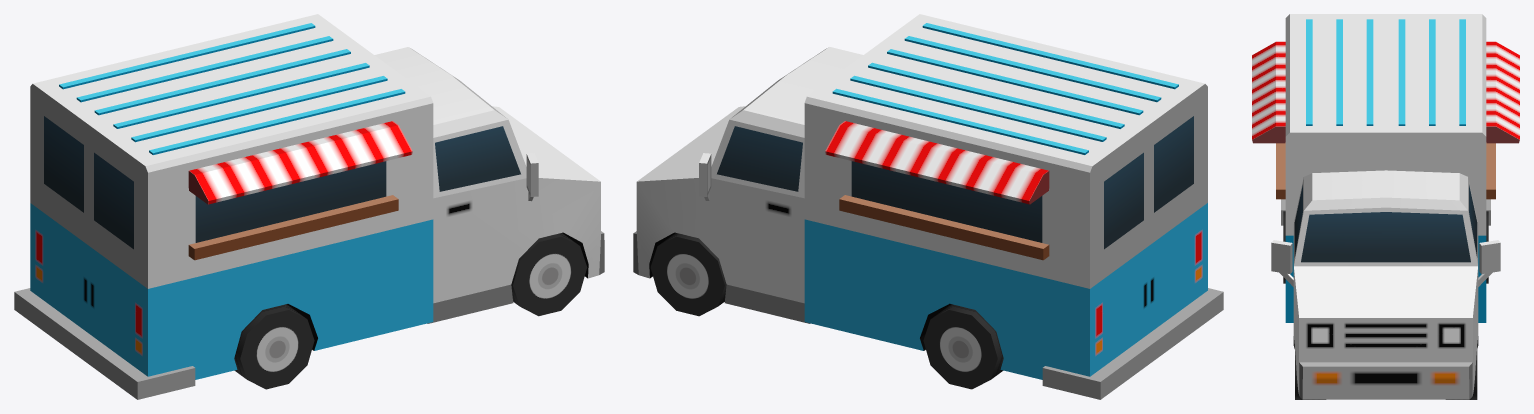
File: Truck_027.glb
3 renders of one model, left to right at view 1: azimuth 30°, elevation 25°; view 2: azimuth 150°, elevation 25°; view 3: azimuth 270°, elevation 25°, orthographic. The views are drawn at different scales.
Visible parts, largest first — view 1: Truck_027, wheel_3_Truck_027_Wheel_2R, wheel_1_Truck_027_Wheel_1R; view 2: Truck_027, wheel_2_Truck_027_Wheel_2L, wheel_0_Truck_027_Wheel_1L; view 3: Truck_027.
Boxes of the visible parts, <box> form: Truck_027: <box>14,14,604,399</box>; wheel_3_Truck_027_Wheel_2R: <box>234,304,314,389</box>; wheel_1_Truck_027_Wheel_1R: <box>511,233,587,316</box>; Truck_027: <box>633,14,1223,399</box>; wheel_2_Truck_027_Wheel_2L: <box>923,304,1003,389</box>; wheel_0_Truck_027_Wheel_1L: <box>650,233,726,316</box>; Truck_027: <box>1252,14,1519,399</box>.
Bounding box in the file's own units: 4.49 × 2.24 × 2.55.
1 material, 1 textured.
